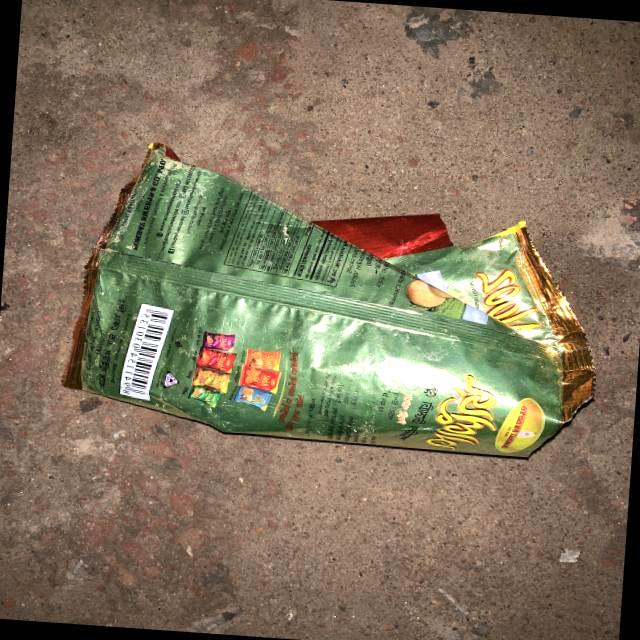packet: (57, 153, 611, 464)
